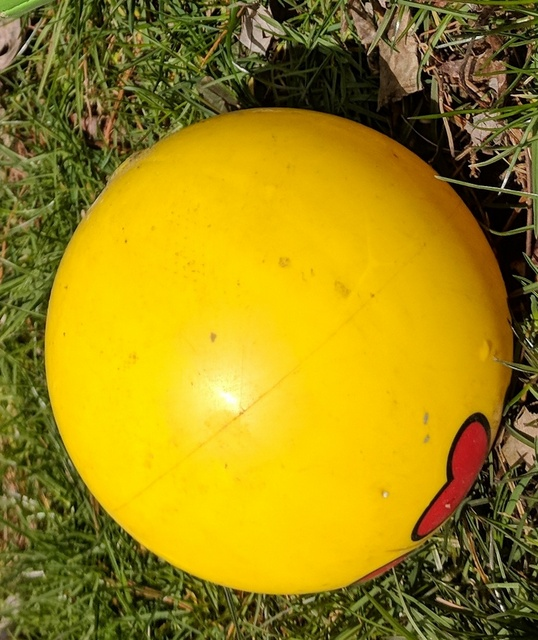ball: (44, 110, 515, 599)
